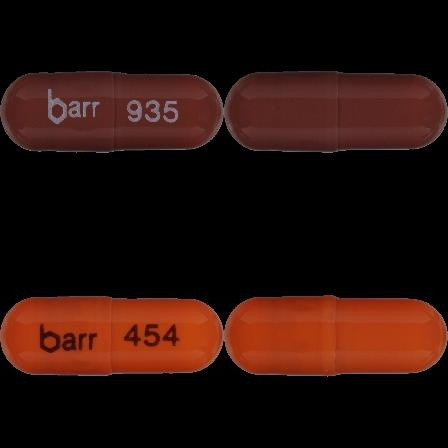0555-1055: (0, 0, 224, 224)
